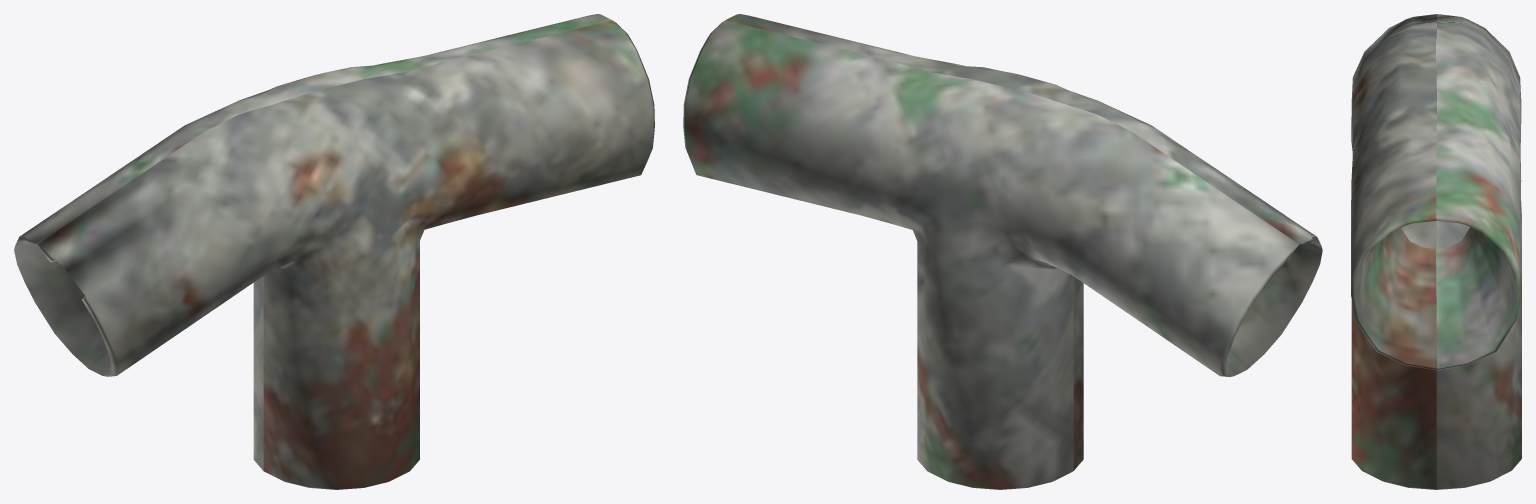
Rendered from Pipe08-model.fbx.
3 renders of one model, left to right at view 1: azimuth 30°, elevation 25°; view 2: azimuth 150°, elevation 25°; view 3: azimuth 270°, elevation 25°, orthographic. The views are drawn at different scales.
Visible parts, largest first — view 1: T_down01; view 2: T_down01; view 3: T_down01.
Part boxes in pixels (bbox=[...]): T_down01: bbox=[14, 14, 654, 489]; T_down01: bbox=[683, 14, 1322, 489]; T_down01: bbox=[1351, 14, 1521, 489].
Size of the model in its own units: 15.3 by 9.38 by 3.82.
Materials: 1 (1 with a texture image).
